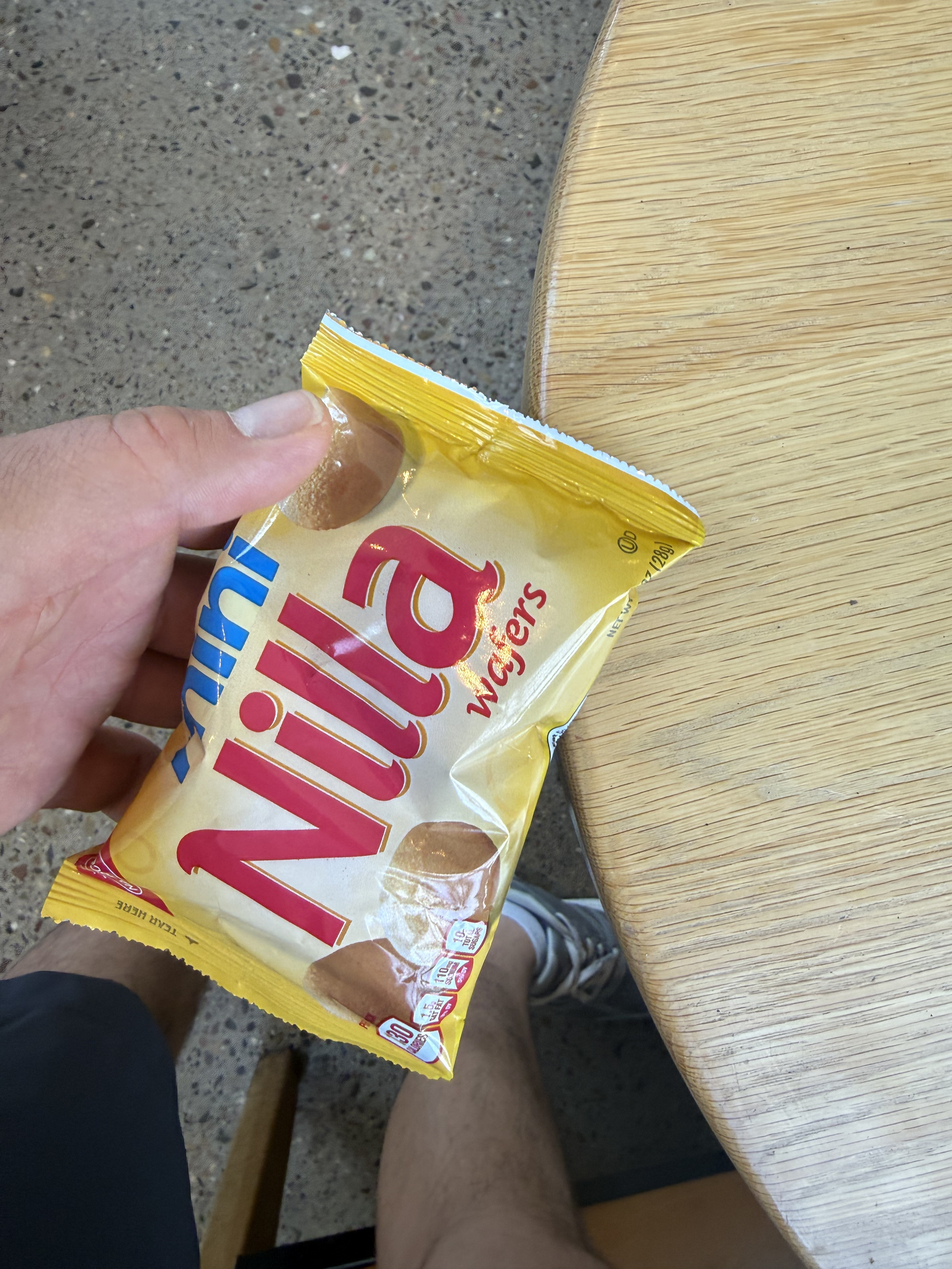nilla: (124, 350, 674, 1079)
